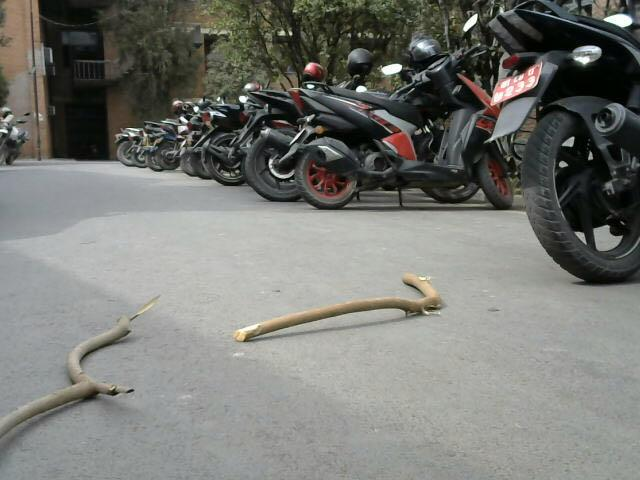Motorcycle: (105, 11, 640, 265), (0, 99, 40, 175)
